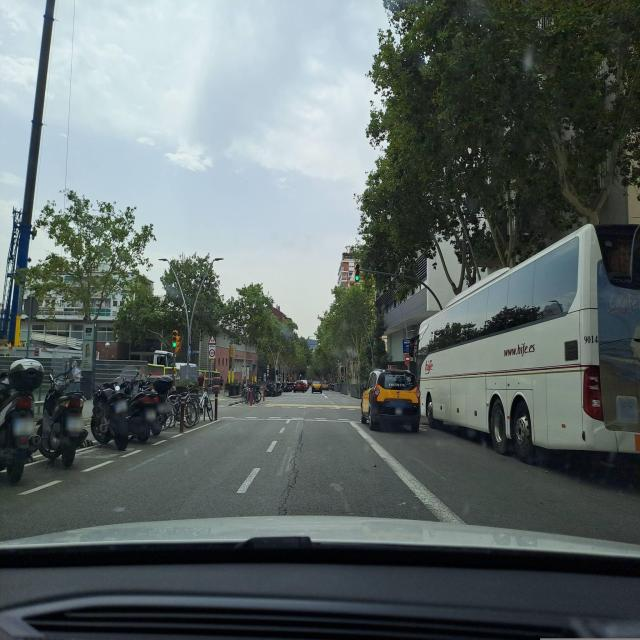bike: (0, 360, 88, 484), (89, 376, 154, 446), (164, 386, 198, 429)
car: (360, 368, 421, 432), (294, 379, 306, 394), (312, 380, 322, 394), (274, 382, 282, 396), (285, 382, 294, 392)
